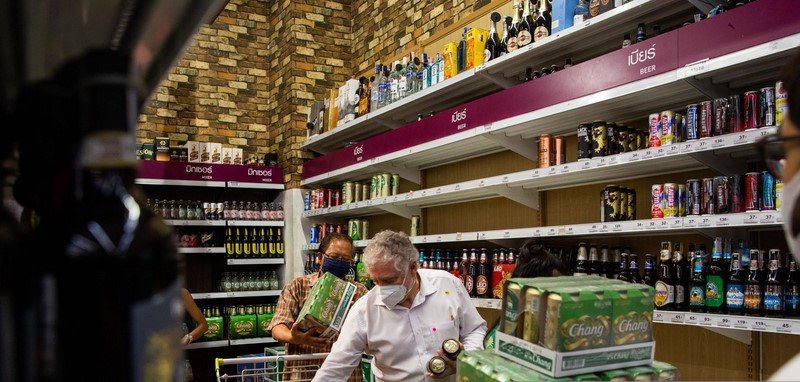face_with_mask: (362, 230, 416, 312), (315, 231, 354, 284)
